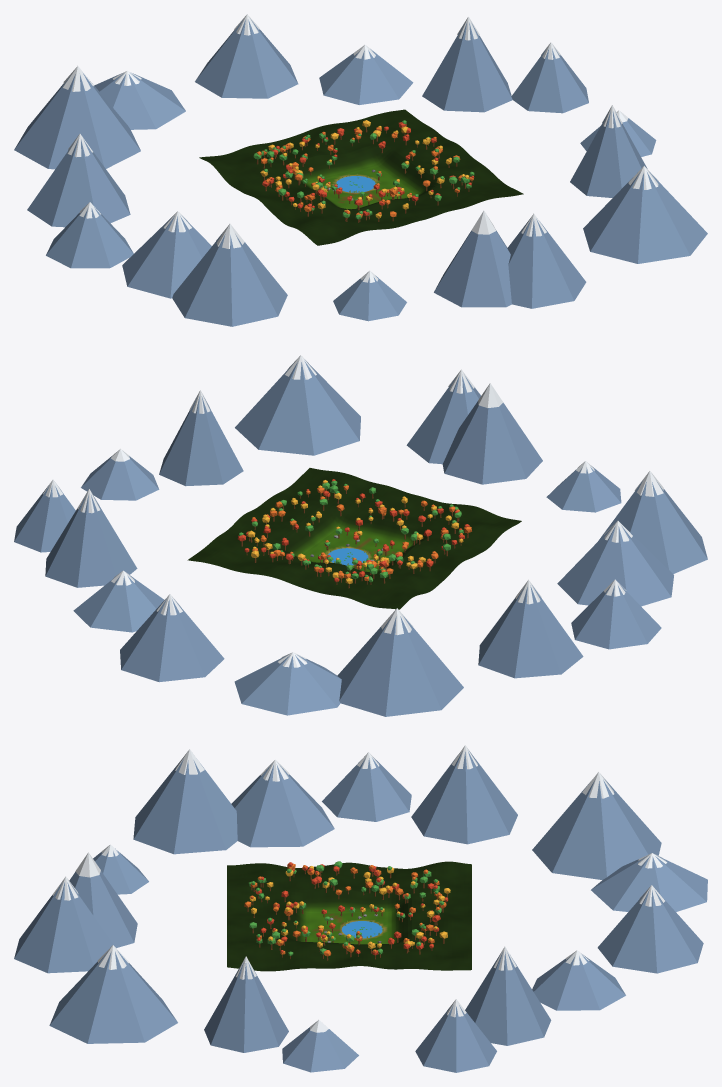
File: akaneTsuriba.glb
3 renders of one model, top to bottom at view 1: azimuth 30°, elevation 25°; view 2: azimuth 150°, elevation 25°; view 3: azimuth 270°, elevation 25°, orthographic. The views are drawn at different scales.
Parts seen in each view (by area): view 1: mountain, terrain, mountainSnow, leaf2, autumn3, autumn2, autumn1, trunk, water; view 2: mountain, terrain, mountainSnow, leaf2, autumn3, autumn2, autumn1, trunk; view 3: mountain, terrain, mountainSnow, leaf2, autumn3, autumn1, autumn2, trunk, water.
Boxes of the visible parts, x1,y1,x2,y2 form: mountain: (14, 19, 707, 326); terrain: (199, 109, 523, 245); mountainSnow: (63, 14, 658, 282); leaf2: (253, 120, 474, 219); autumn3: (260, 120, 469, 218); autumn2: (262, 122, 474, 215); autumn1: (256, 127, 473, 217); trunk: (256, 127, 472, 222); water: (336, 176, 375, 192); mountain: (14, 360, 707, 716); terrain: (187, 468, 521, 609); mountainSnow: (43, 355, 663, 667); leaf2: (238, 480, 463, 582); autumn3: (247, 480, 463, 584); autumn2: (237, 479, 469, 581); autumn1: (252, 485, 471, 580); trunk: (241, 489, 468, 588); mountain: (14, 751, 707, 1072); terrain: (227, 861, 471, 971); mountainSnow: (52, 745, 667, 1032); leaf2: (248, 861, 444, 955); autumn3: (249, 866, 450, 948); autumn1: (244, 863, 446, 956); autumn2: (255, 862, 448, 955); trunk: (247, 870, 447, 960); water: (341, 921, 382, 938).
Size of the model in its own units: 256 by 33.39 by 259.
